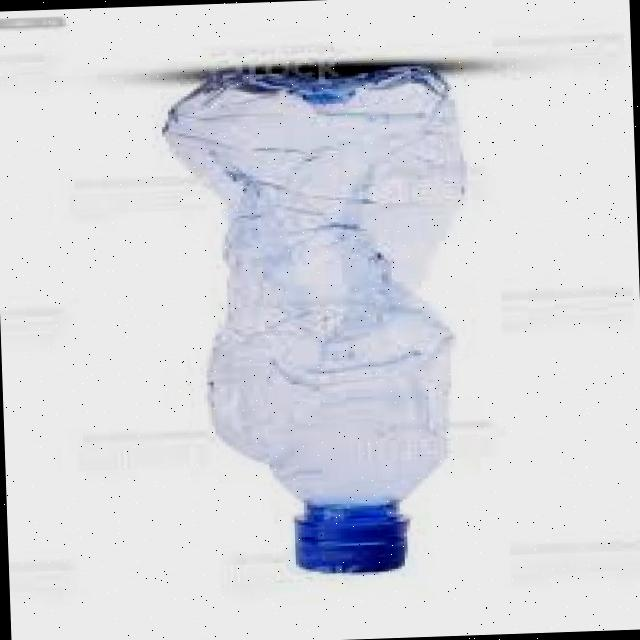bottle: (153, 58, 500, 604)
cap: (282, 508, 428, 588)
